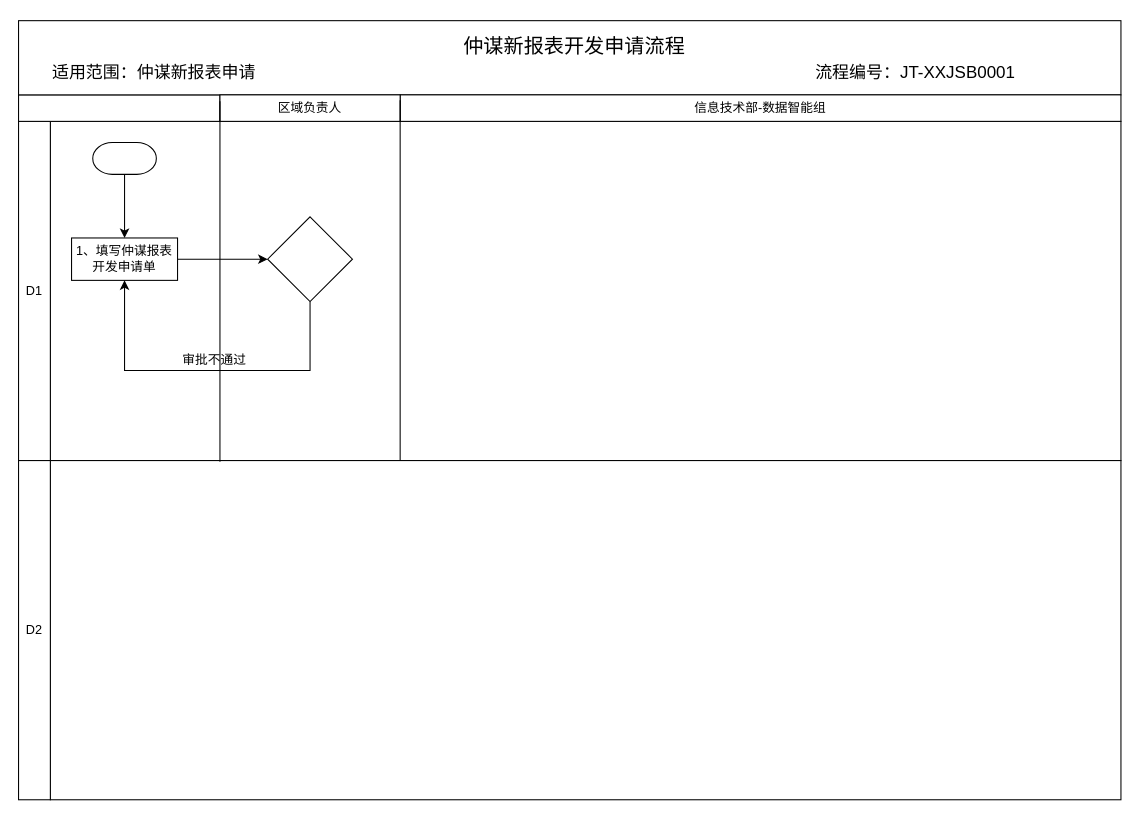
This 1139x818 diagram has some shape labels left out. The centre of each missing label's shape, as x and y in pixels:
"2、所属负责人审批" belongs at (x=309, y=259).
"开始" belongs at (x=124, y=158).
"需求申请人" belongs at (x=118, y=107).
